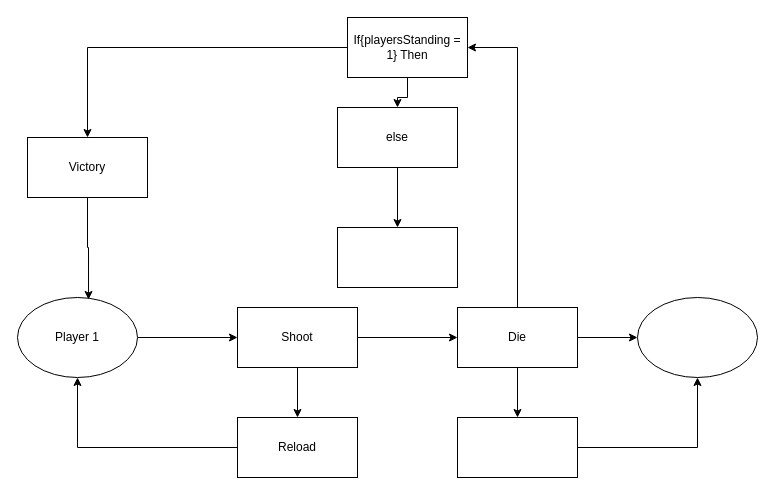
Some shapes in this 775 by 495 pixel diagram are drawn without their labels. Here are the shapes that lost their labels. From the top down, the centre of each, then its label:
At point (397, 257): "Game continues".
At point (697, 337): "Player 2".
At point (517, 447): "Eliminated".
